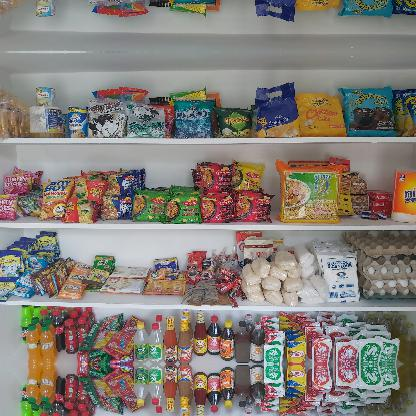Lady-s-Choice: (29, 105, 65, 137)
